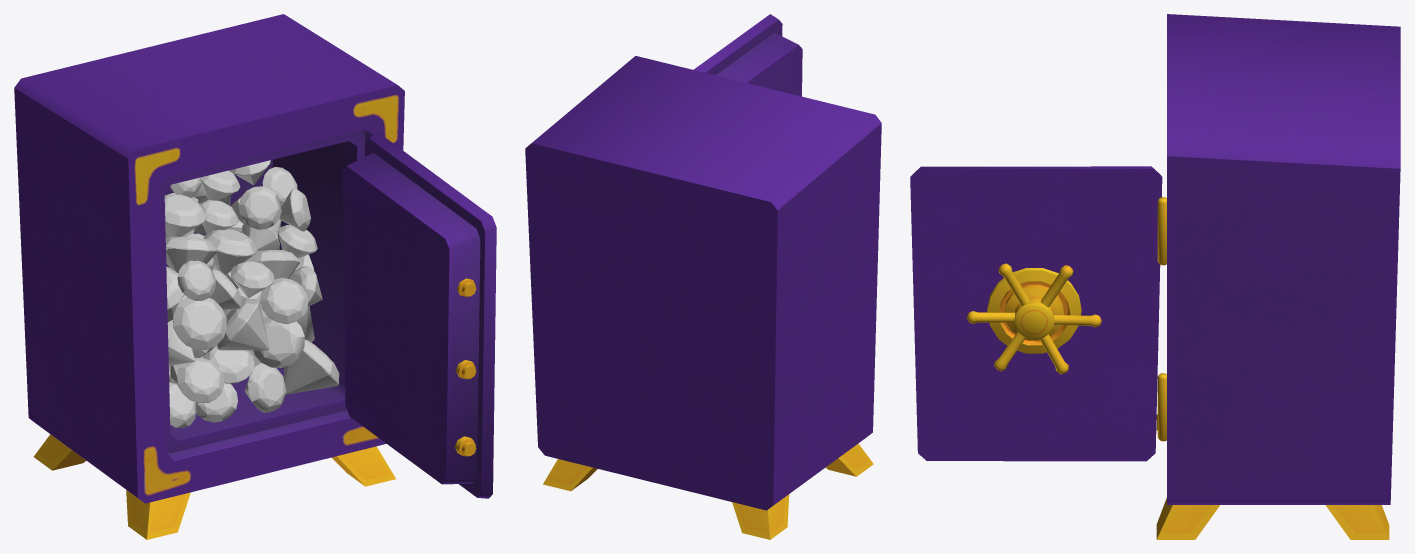
The model's file is Wealth_sg_safe.fbx.
The picture shows the model from 3 angles, left to right: view 1: azimuth 30°, elevation 25°; view 2: azimuth 150°, elevation 25°; view 3: azimuth 270°, elevation 25°; orthographic projection. The views are drawn at different scales.
Parts seen in each view (by area): view 1: Wealth_sg_safe, Wealth_sg_safe_diamond; view 2: Wealth_sg_safe; view 3: Wealth_sg_safe.
Boxes of the visible parts, box(x1,y1,x2,y2) form: Wealth_sg_safe: box(14, 14, 496, 539); Wealth_sg_safe_diamond: box(164, 160, 339, 428); Wealth_sg_safe: box(525, 14, 881, 539); Wealth_sg_safe: box(910, 14, 1400, 539).
Bounding box in the file's own units: 101 × 135 × 151.
